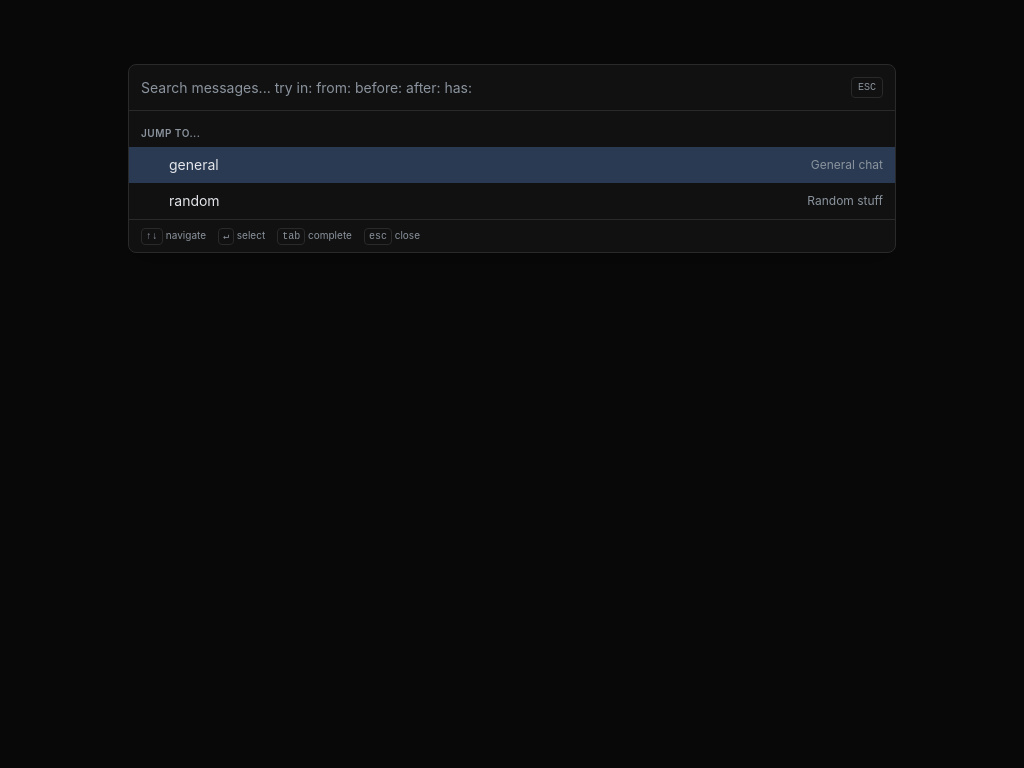
Test: SearchPanel › backspace removes last pill when input is empty
This screenshot has width=1024, height=768.
Step 1. Type "in:g" into the field with test id "search-input" → (492, 88), box [141,78,843,98]
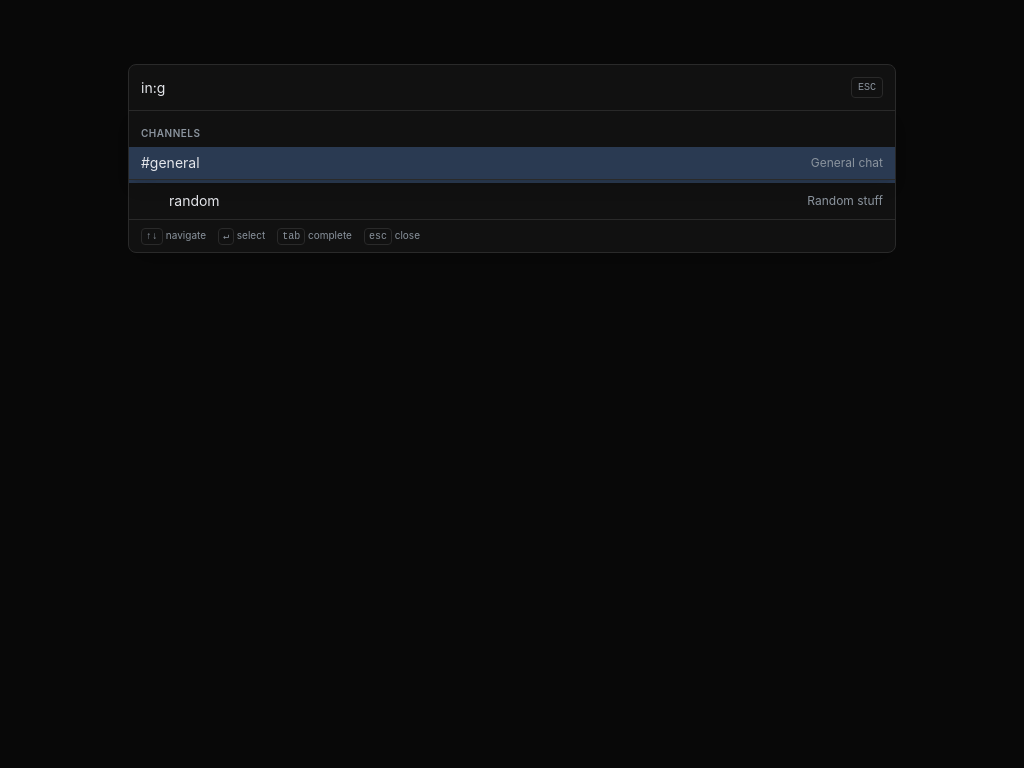
Step 2. Click the button with test id "ac-item" → (170, 162), box [129,147,895,179]
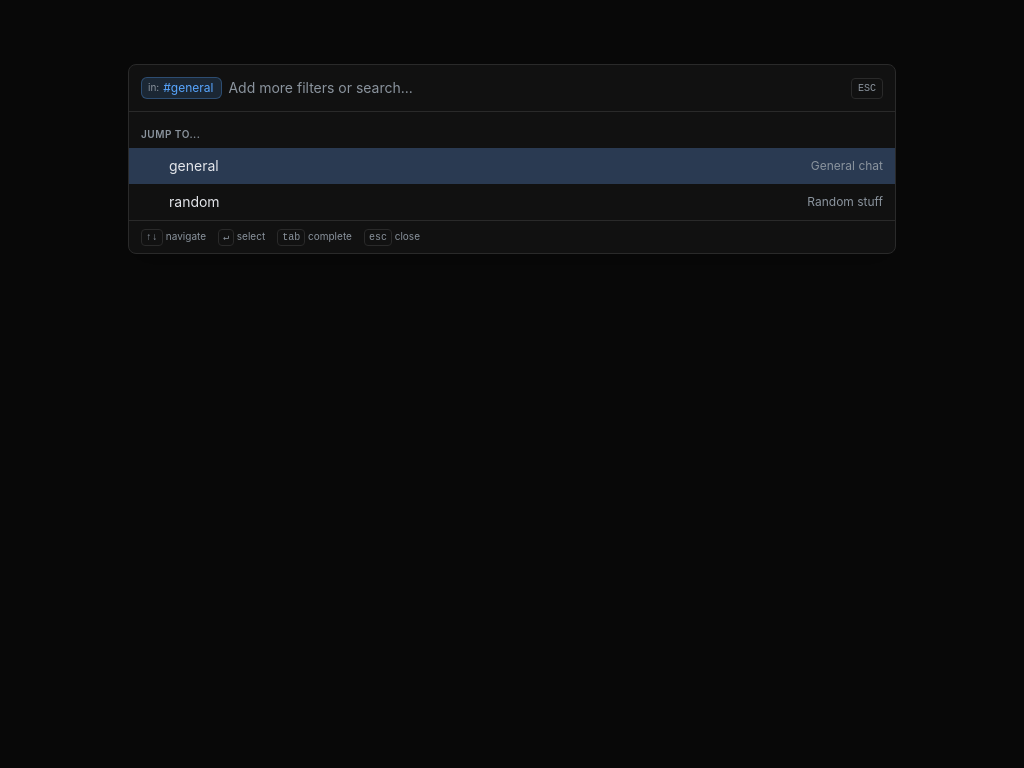
Now the element with test id "search-pill" is shown, box [141,77,222,99]
Step 3. Press Backspace in the field with test id "search-input", box [228,78,843,98]
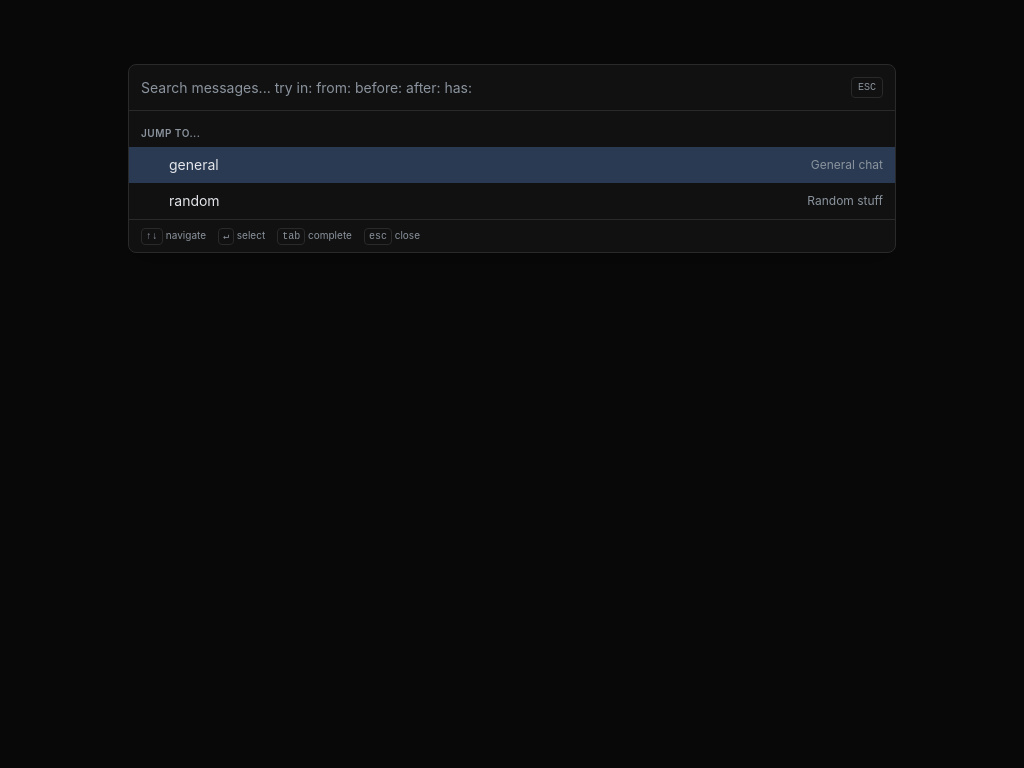
Now the element with test id "search-pill" is gone
